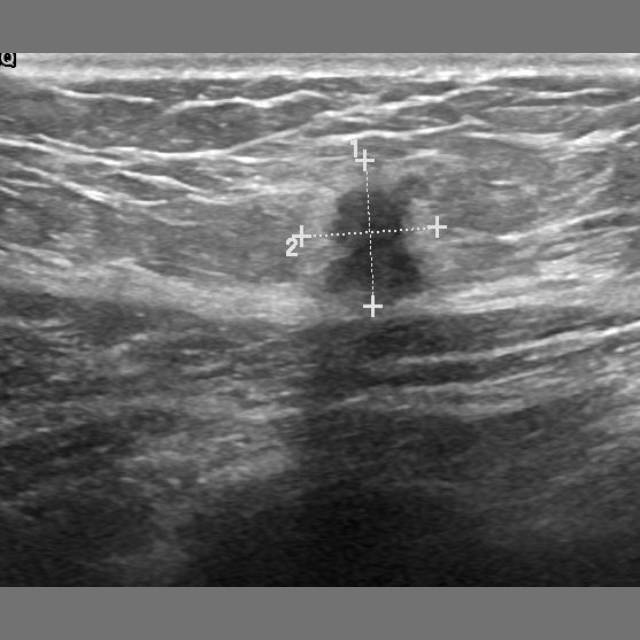cancer: (288, 177, 462, 314)
